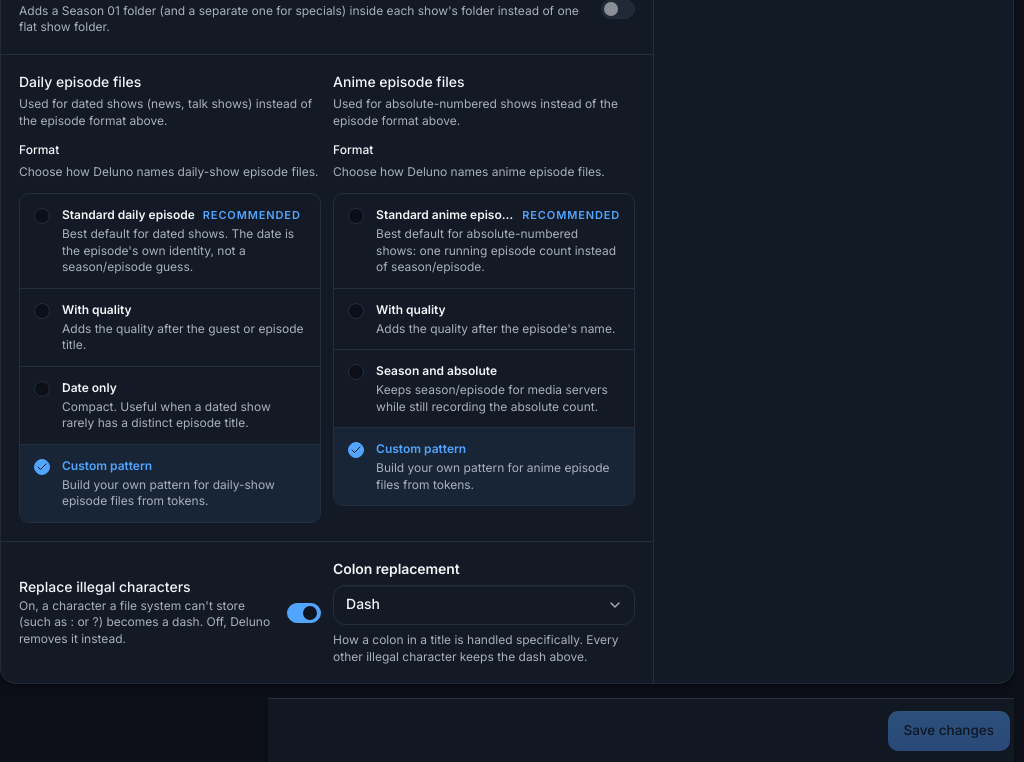
it: saving the naming choices › says Saved just now when the server accepts it
(page scrolled)
Click the switch named "Replace illegal characters" below "Replace illegal characters".
click(304, 612)  # box [287,602,321,622]
(page scrolled)
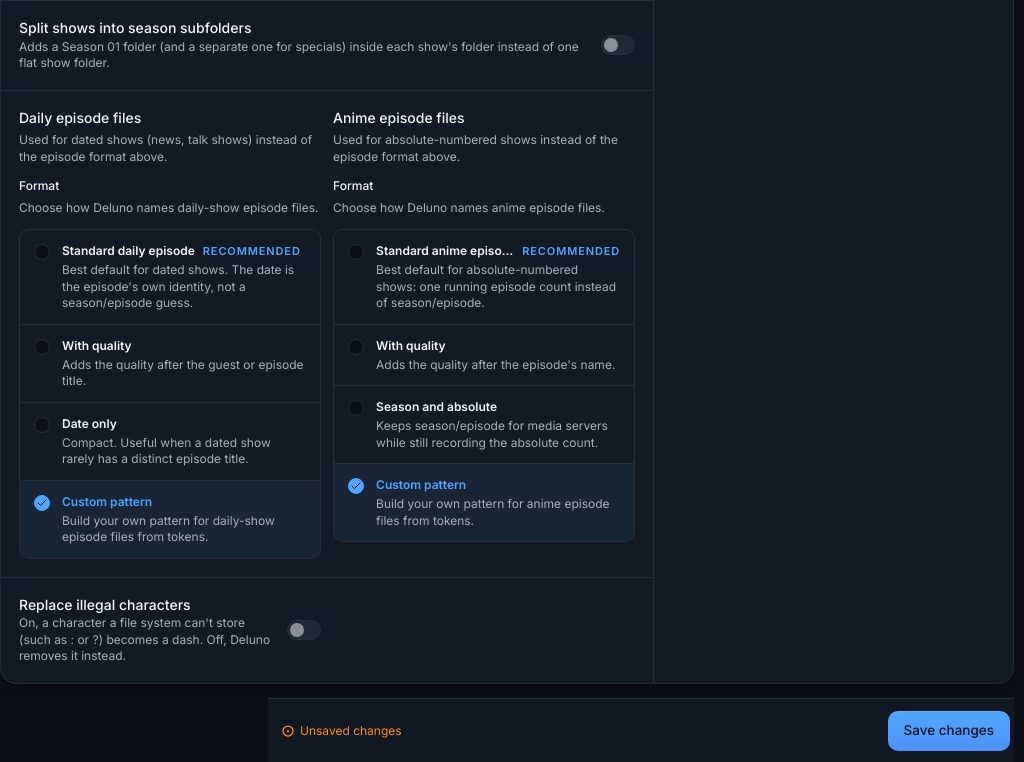
Click the button "Save changes".
click(949, 730)  # box [888,710,1010,750]
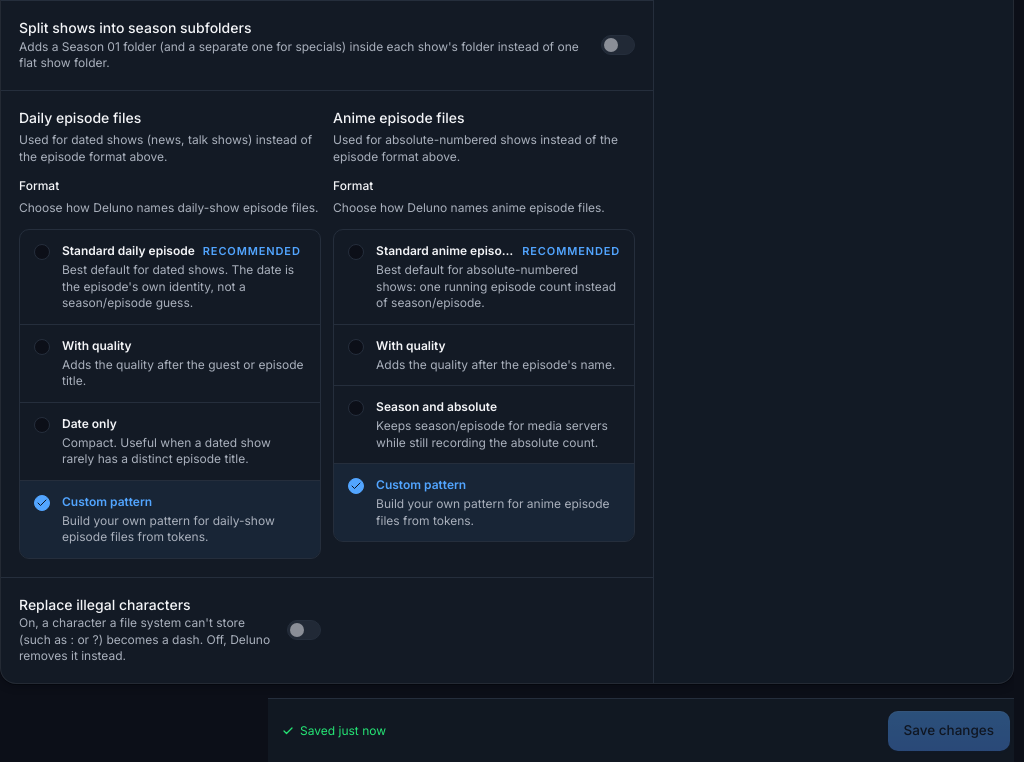
Check: the text "Saved just now" is shown, box [300,722,386,740]
